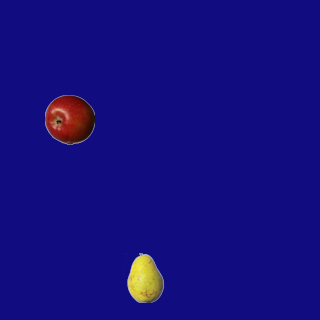Apple Braeburn: (44, 94, 94, 144)
Pear Monster: (120, 252, 170, 302)
